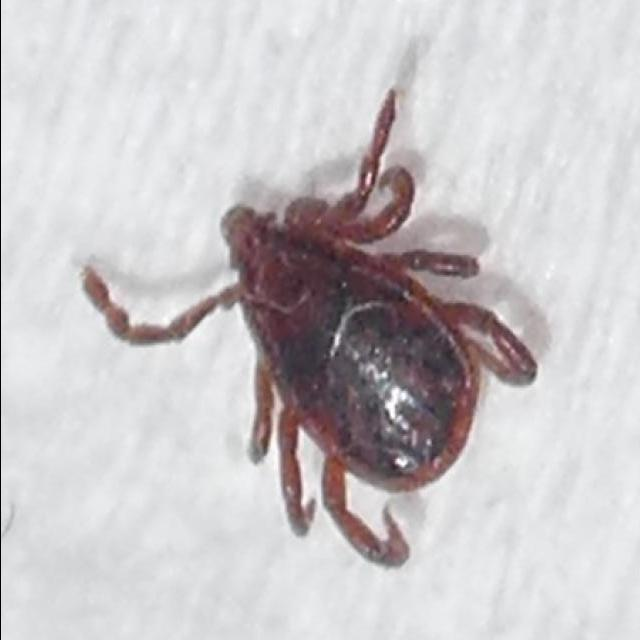Rhipicephalus Sanguineus-M: (80, 85, 539, 569)
